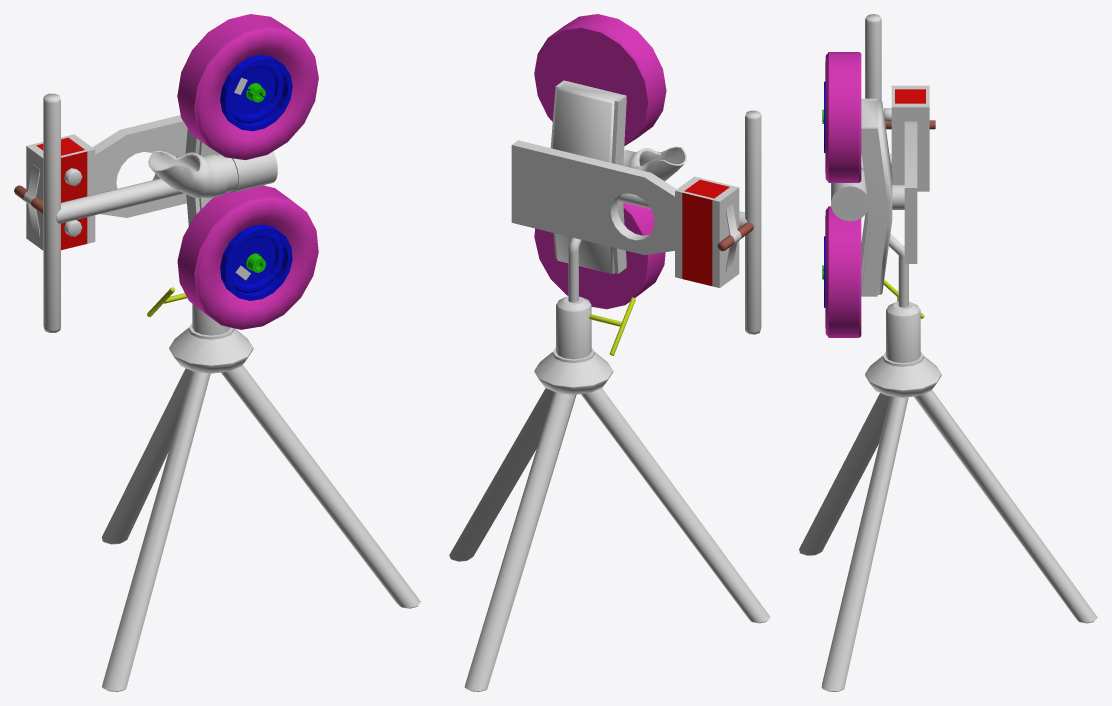
The model's file is Pitch_Machine.FBX.
3 views of the same model, side by side, from view 1: azimuth 30°, elevation 25°; view 2: azimuth 150°, elevation 25°; view 3: azimuth 270°, elevation 25° (orthographic). The views are drawn at different scales.
Parts seen in each view (by area): view 1: Box002, Object001, Object002; view 2: Box002, Object001, Object002; view 3: Box002, Object001, Object002.
Part boxes in pixels (x1,y1,x2,y2): Box002: (14,93,420,691); Object001: (177,14,318,160); Object002: (177,185,318,329); Box002: (449,80,770,691); Object001: (534,14,666,145); Object002: (534,202,665,309); Box002: (799,14,1097,691); Object001: (822,52,861,182); Object002: (822,206,861,337).
Size of the model in its own units: 42.02 by 69.98 by 33.81.
